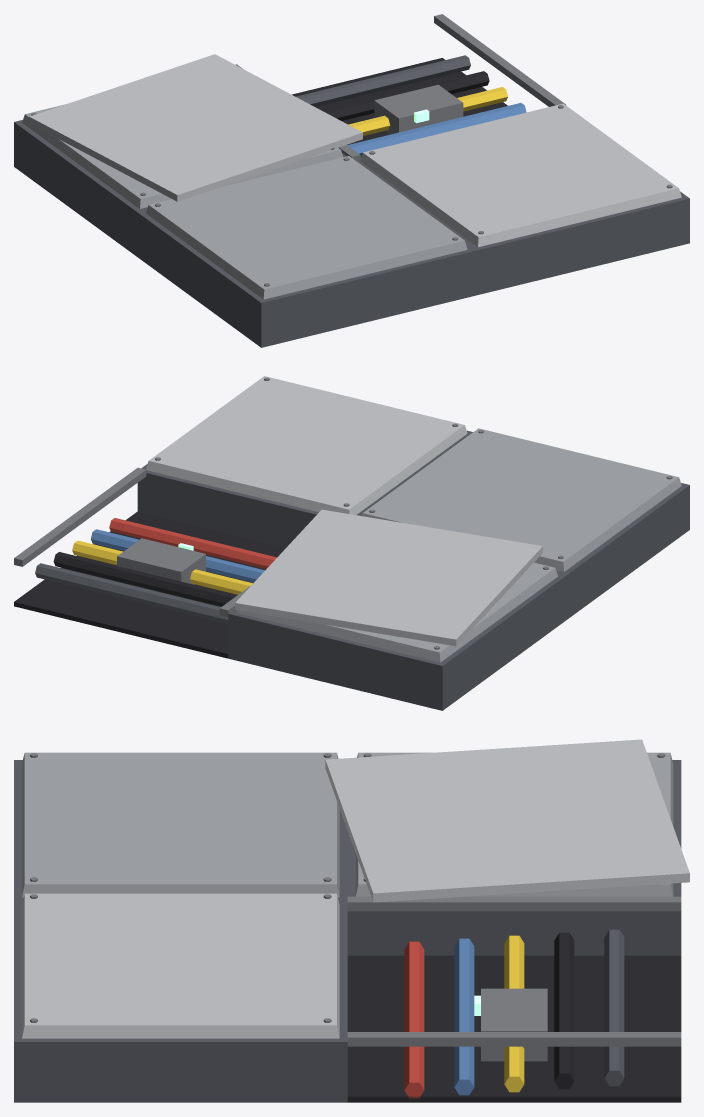
File: SM_Floor_Panel_Open.glb
3 renders of one model, top to bottom at view 1: azimuth 30°, elevation 25°; view 2: azimuth 150°, elevation 25°; view 3: azimuth 270°, elevation 25°, orthographic. The views are drawn at different scales.
Visible parts, largest first — view 1: SM_Floor_Panel_Open; view 2: SM_Floor_Panel_Open; view 3: SM_Floor_Panel_Open.
Part boxes in pixels (x1,y1,x2,y2): SM_Floor_Panel_Open: [14, 14, 689, 347]; SM_Floor_Panel_Open: [14, 376, 689, 710]; SM_Floor_Panel_Open: [14, 739, 689, 1102].
Size of the model in its own units: 2 by 0.27 by 2.03.
